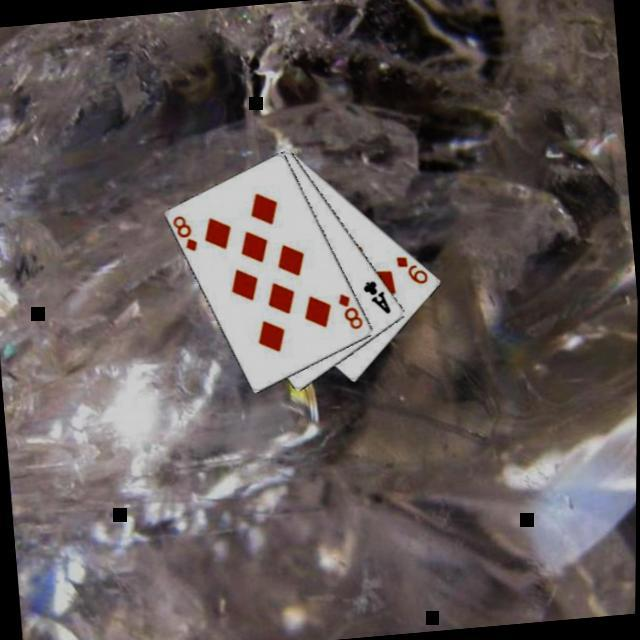8D: (336, 290, 368, 334), (171, 212, 203, 256)
9D: (394, 252, 434, 291)
AC: (363, 277, 396, 319)
